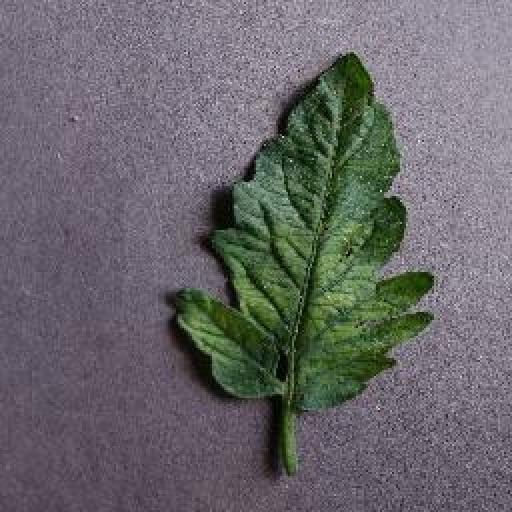disease_tomato: (170, 48, 436, 416)
